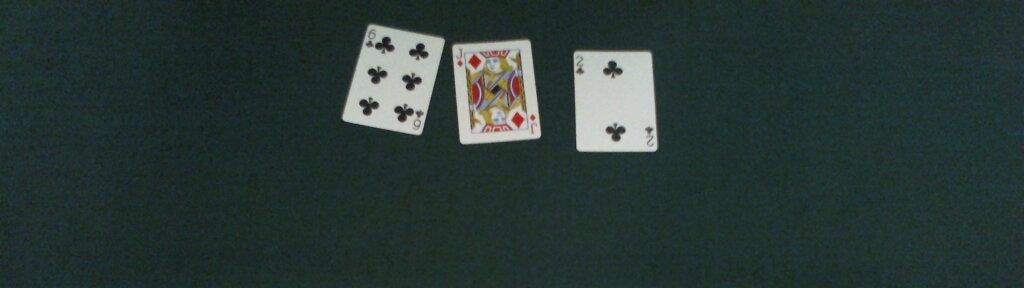jack: (451, 38, 542, 143)
six: (341, 24, 444, 136)
two: (571, 50, 660, 152)
